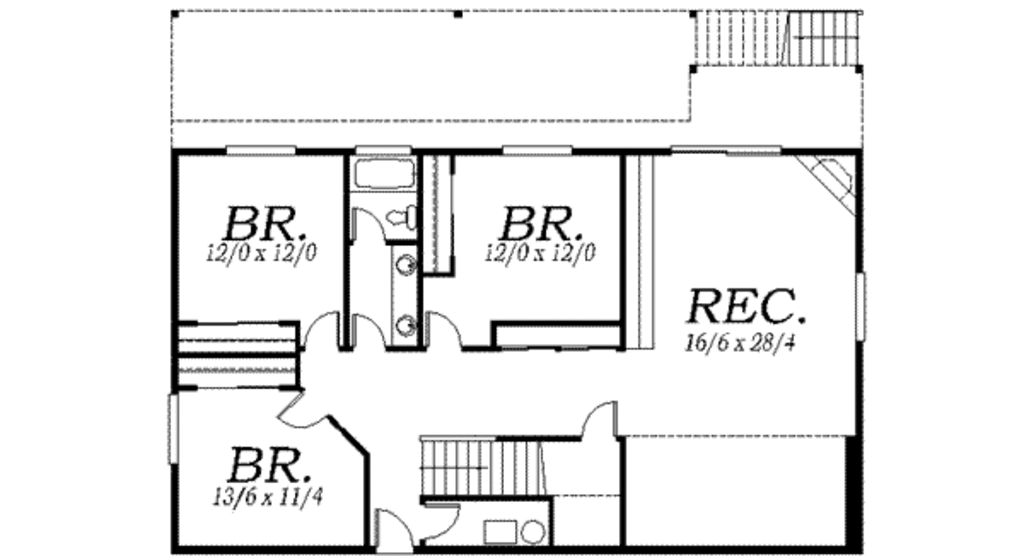door: (276, 389, 333, 431), (371, 503, 418, 552), (299, 311, 342, 354), (575, 401, 621, 438), (349, 312, 390, 350), (421, 499, 459, 539), (425, 307, 459, 350), (352, 206, 389, 245)
large_sink: (382, 204, 413, 237)
small_sink: (384, 311, 420, 346), (388, 246, 418, 282)
stairs: (685, 8, 869, 79), (415, 431, 579, 501)
tub: (351, 159, 424, 195)
window: (222, 142, 297, 161), (502, 143, 575, 160), (168, 396, 184, 466), (355, 141, 413, 159), (854, 273, 866, 342)
